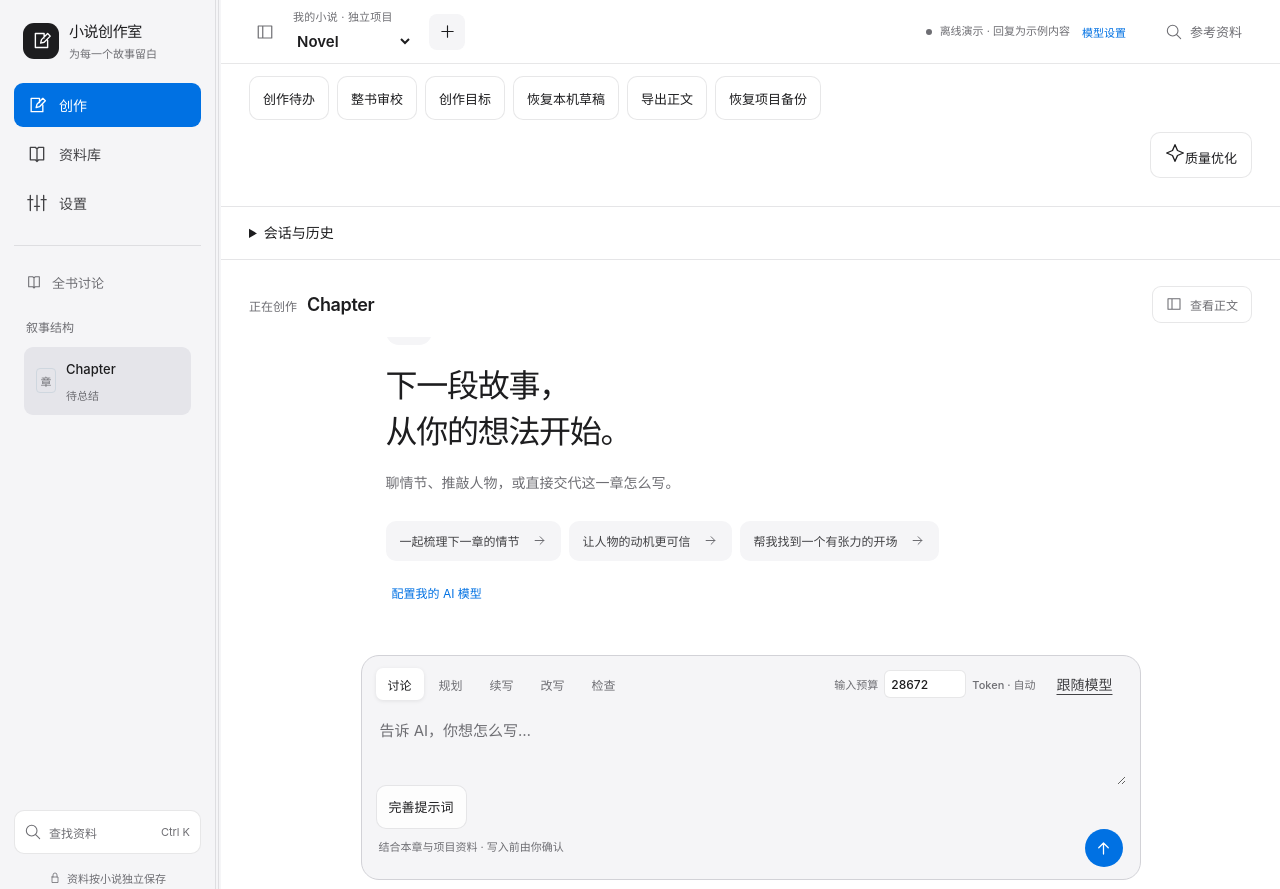
requires separately cancelling the failed summary before linked fresh completion
(page scrolled)
Expected: the text box named "给 AI 的消息" is shown, [376,702,1126,785]
Click the button "查看正文": (1202, 304) [1152,286,1252,323]
(page scrolled)
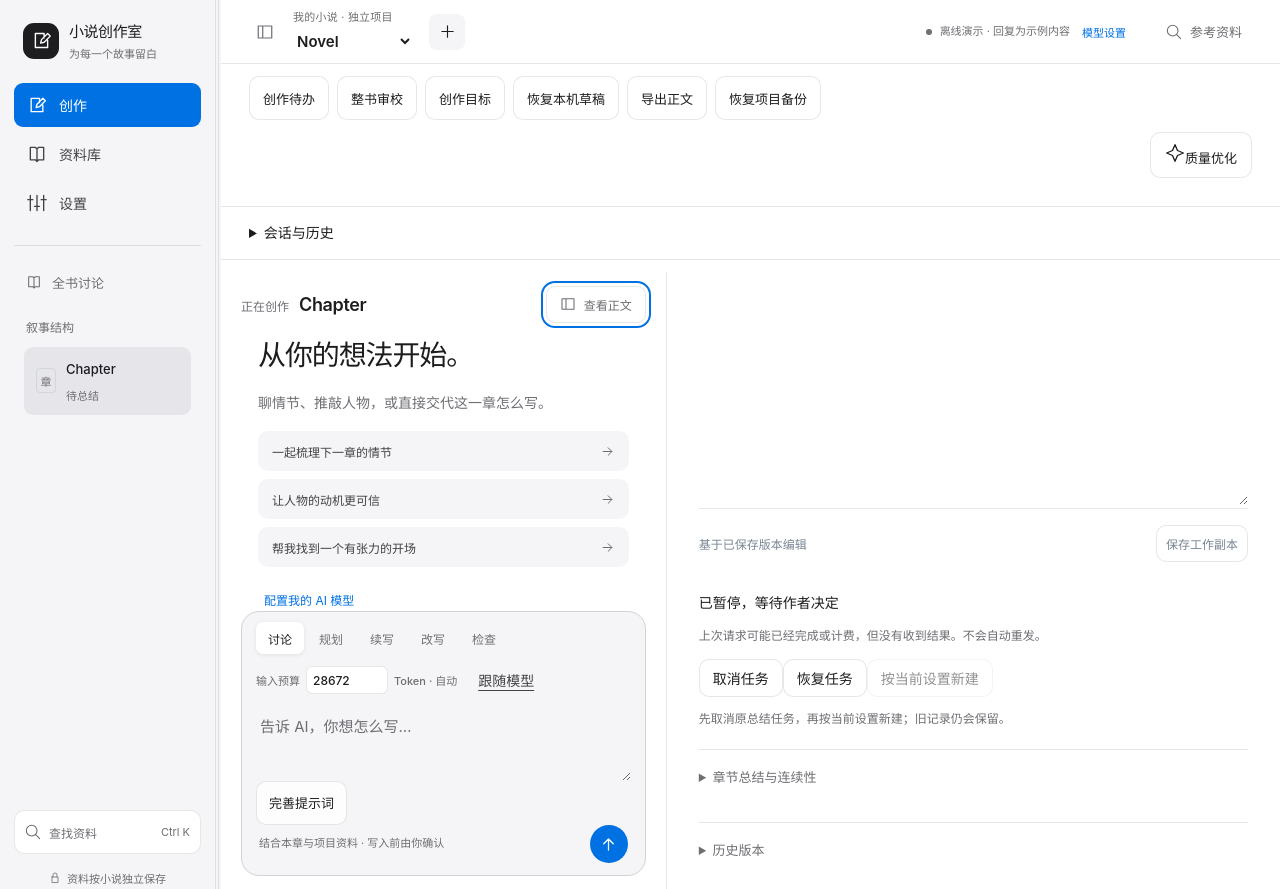
Expected: the button "按当前设置新建" is disabled, [867,659,993,697]
Expected: the text "先取消原总结任务，再按当前设置新建；旧记录仍会保留。" is shown, [699,711,1011,726]
Click the button "取消任务": (741, 678) [699,659,783,697]
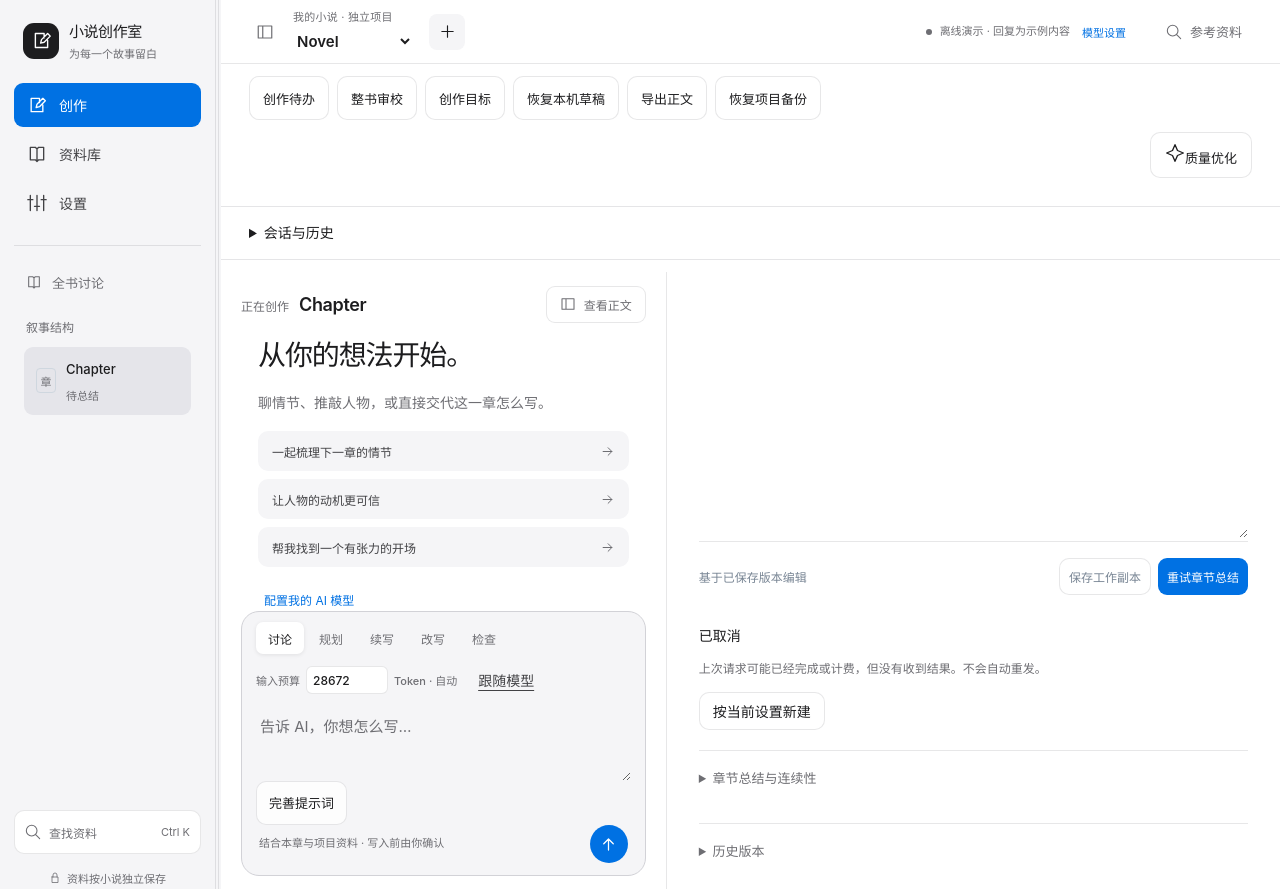
Expected: the button "按当前设置新建" is enabled
Click the button "按当前设置新建": (762, 711) [699,692,825,730]
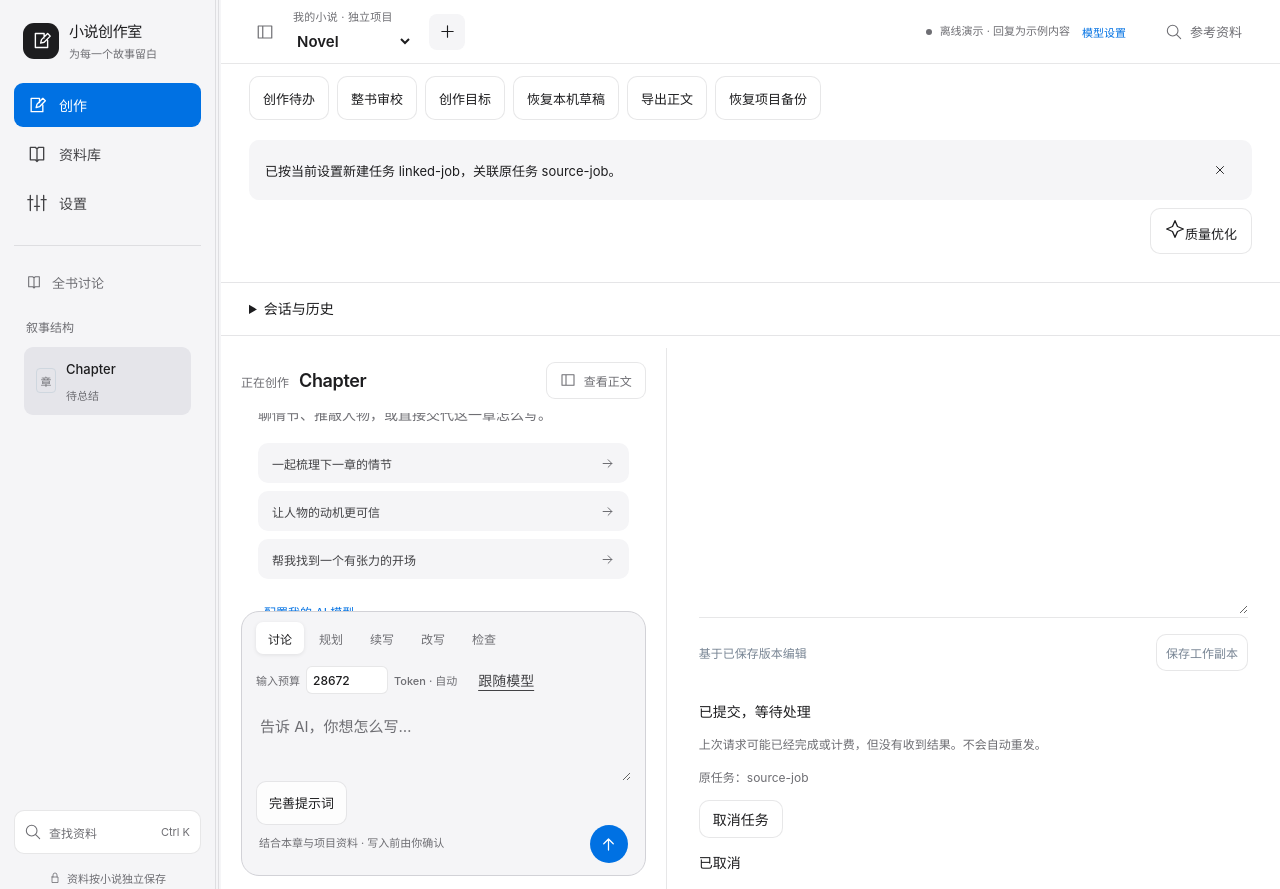
Expected: the text "原任务：source-job" is shown, [699,770,809,785]
